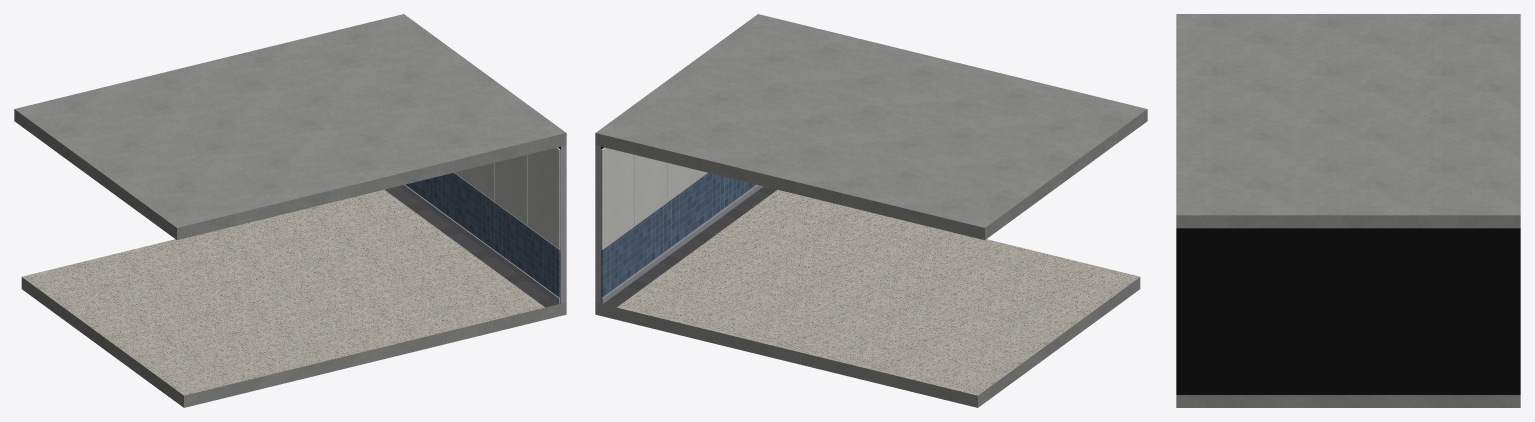
The model's file is gteki_passage_straight_w8_l6_open.glb.
3 views of the same model, side by side, from view 1: azimuth 30°, elevation 25°; view 2: azimuth 150°, elevation 25°; view 3: azimuth 270°, elevation 25° (orthographic). The views are drawn at different scales.
Visible parts, largest first — view 1: VIS_ceiling, VIS_floor, VIS_walls; view 2: VIS_ceiling, VIS_floor, VIS_walls; view 3: VIS_ceiling, VIS_walls, VIS_floor.
Boxes of the visible parts, box(x1,y1,x2,y2) form: VIS_ceiling: box(14, 14, 566, 240); VIS_floor: box(21, 186, 566, 407); VIS_walls: box(398, 145, 566, 303); VIS_ceiling: box(595, 14, 1147, 240); VIS_floor: box(595, 186, 1140, 407); VIS_walls: box(595, 145, 763, 303); VIS_ceiling: box(1176, 14, 1520, 228); VIS_walls: box(1176, 228, 1520, 394); VIS_floor: box(1176, 395, 1520, 407).
Size of what is drawn, in the model's own units: 8.3 by 3.7 by 6.
10 materials, 7 textured.
